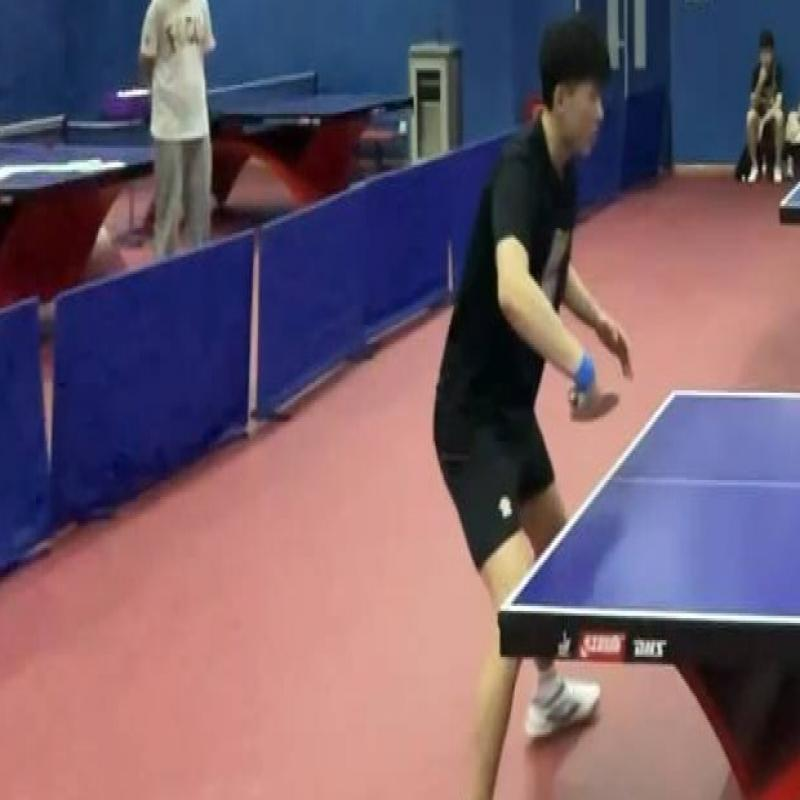bats: (564, 374, 631, 436)
